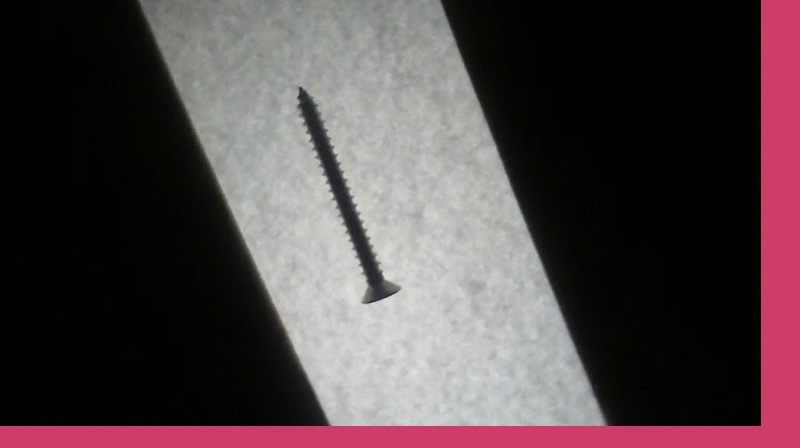S002: (293, 82, 404, 305)
